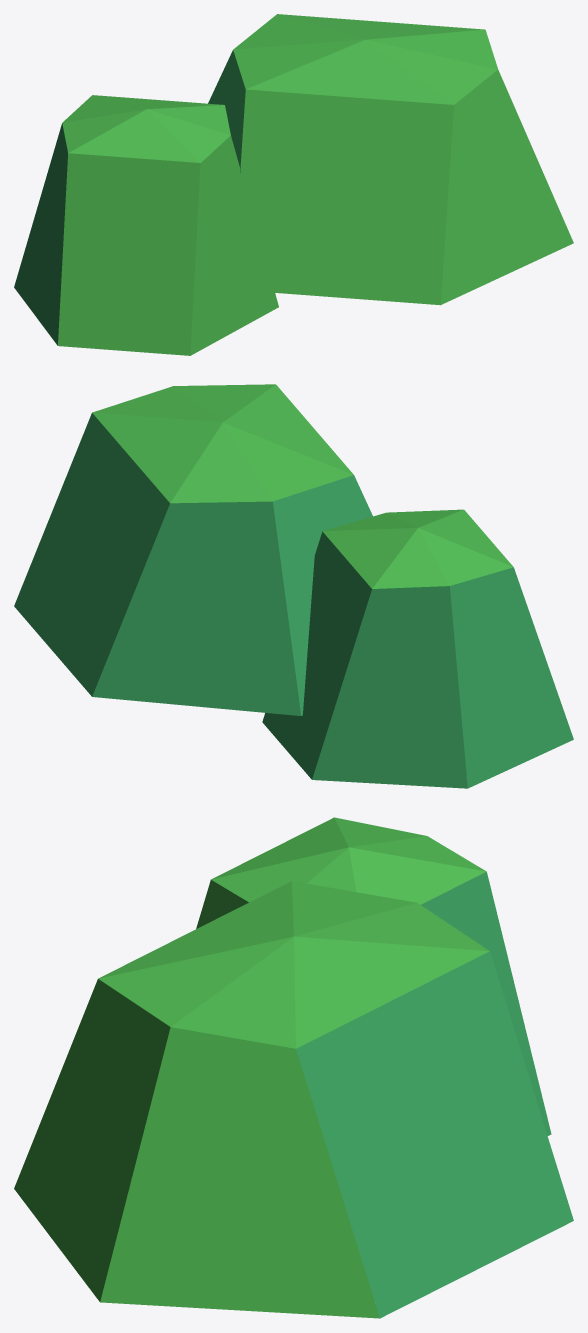
The model's file is bush_1.gltf.
The picture shows the model from 3 angles, top to bottom: view 1: azimuth 30°, elevation 25°; view 2: azimuth 150°, elevation 25°; view 3: azimuth 270°, elevation 25°; orthographic projection. The views are drawn at different scales.
Visible parts, largest first — view 1: sphere (×2); view 2: sphere (×2); view 3: sphere (×2).
Boxes of the visible parts, x1,y1,x2,y2 form: sphere (×2): [14, 14, 573, 355]; sphere (×2): [14, 384, 573, 788]; sphere (×2): [14, 817, 573, 1318].
Size of the model in its own units: 0.4502 by 0.1998 by 0.3191.
Materials: 1 (1 with a texture image).
